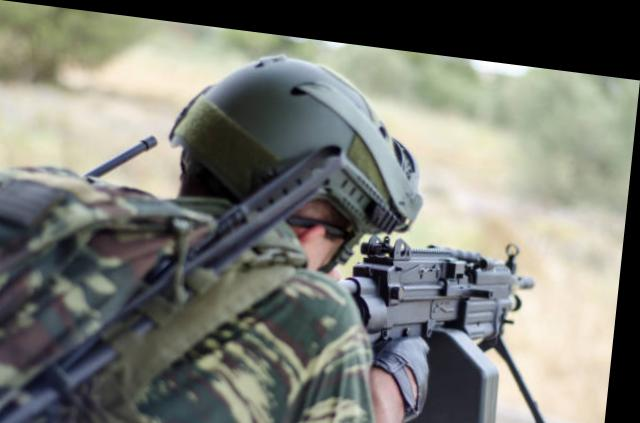other: (0, 37, 436, 422)
